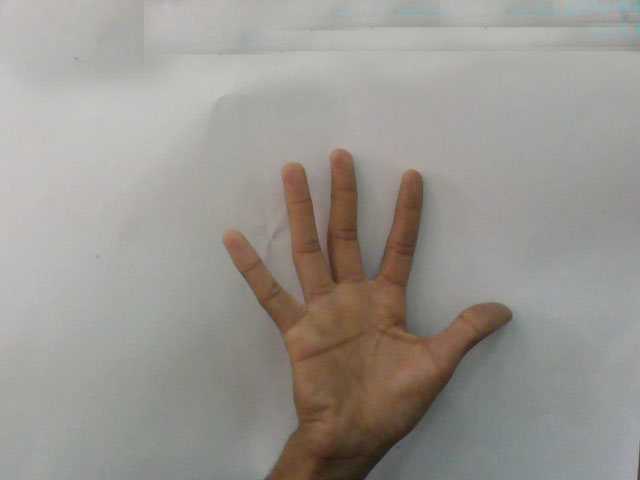hand: (207, 135, 532, 439)
